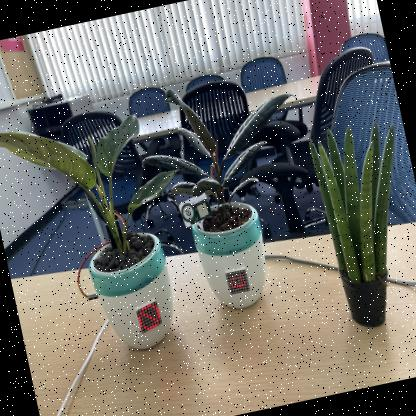Aglaonema: (0, 88, 196, 270)
Rubber: (128, 64, 316, 219)
Spear: (301, 111, 415, 281)
